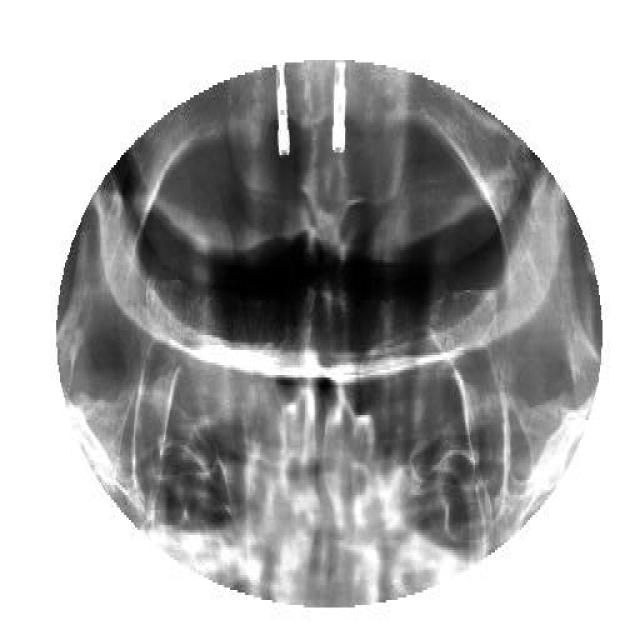Implant: (268, 65, 292, 160), (330, 60, 352, 158)
